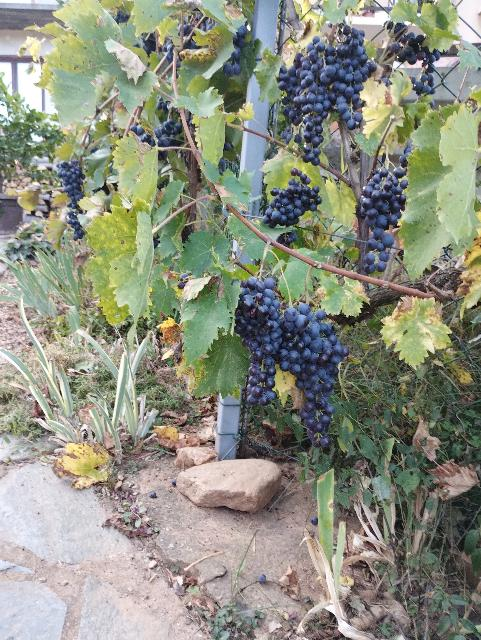grapes: (280, 25, 378, 165), (276, 302, 350, 448), (360, 145, 415, 274), (235, 276, 284, 406), (262, 169, 322, 228)
